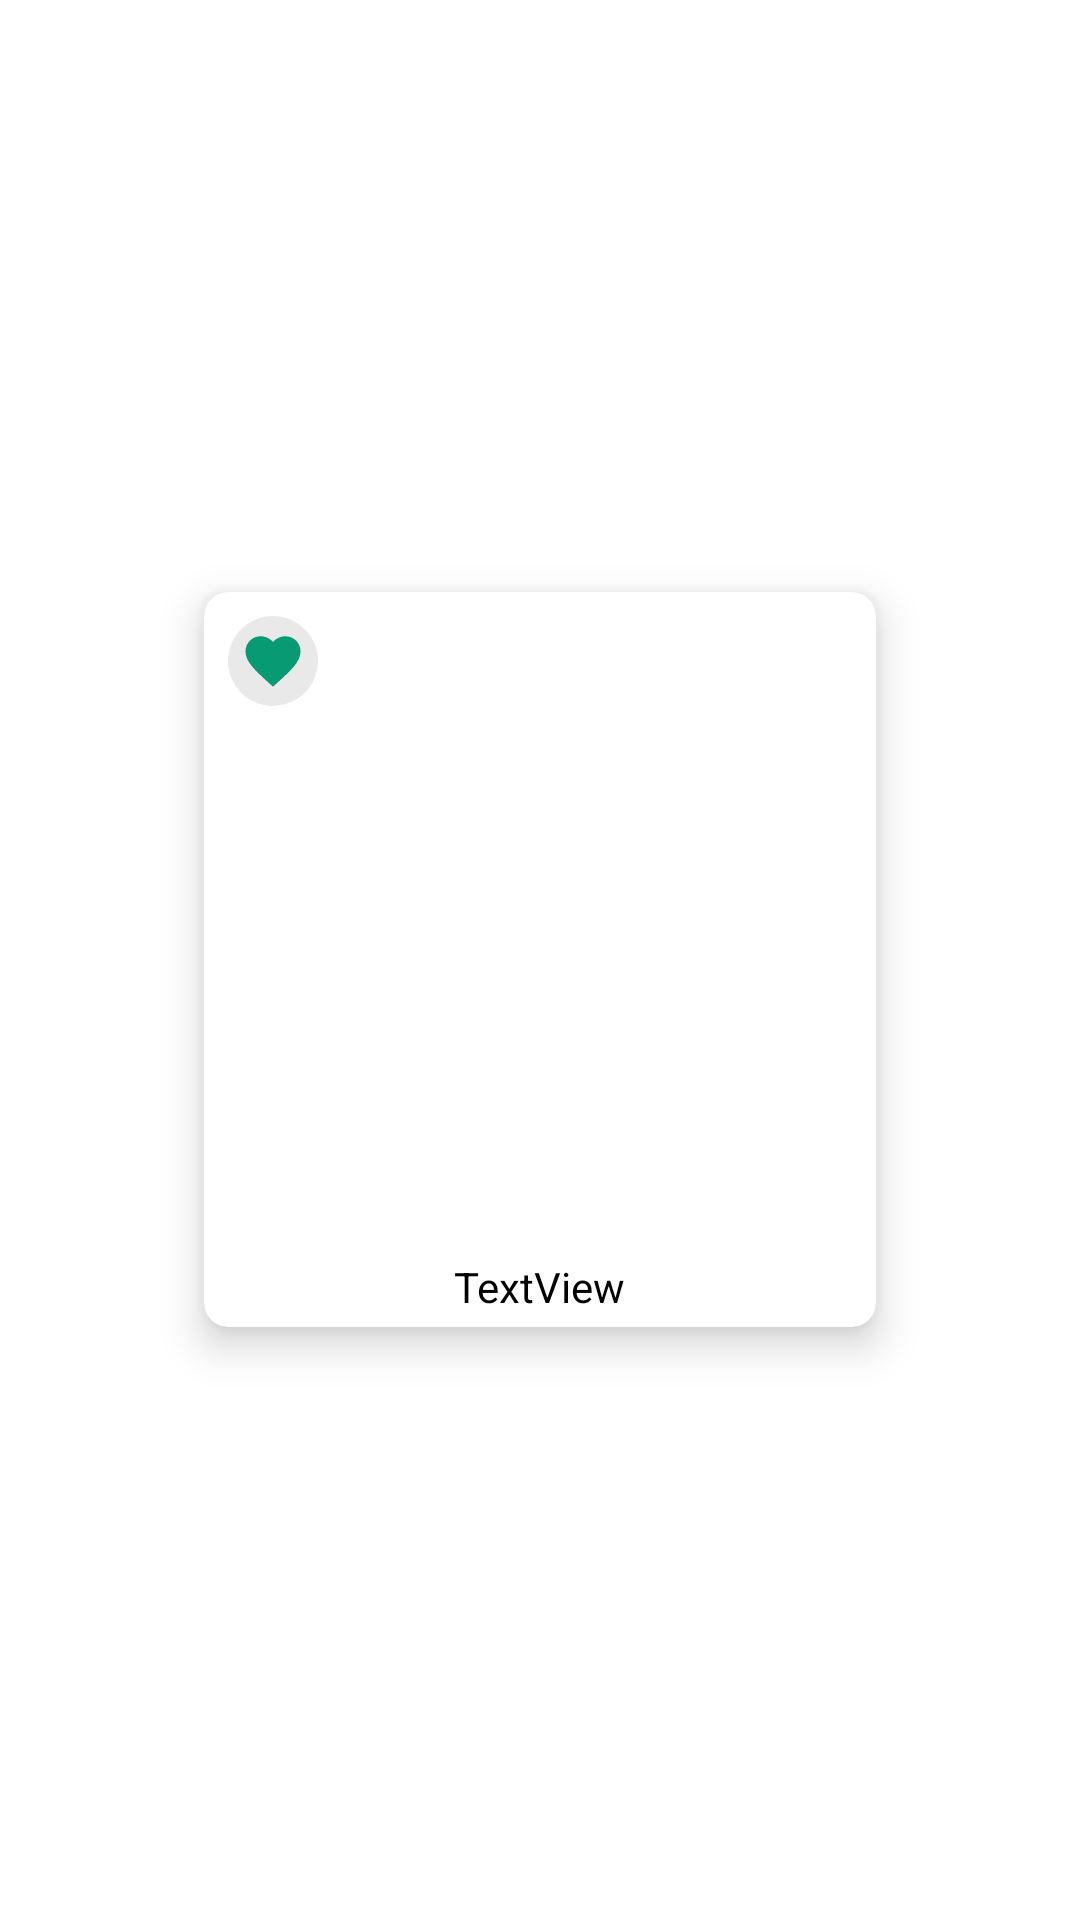

Icons on this 1080*1920 Android screen, each with the point to tap as (x=x, y=y):
favorite: (x=273, y=661)
